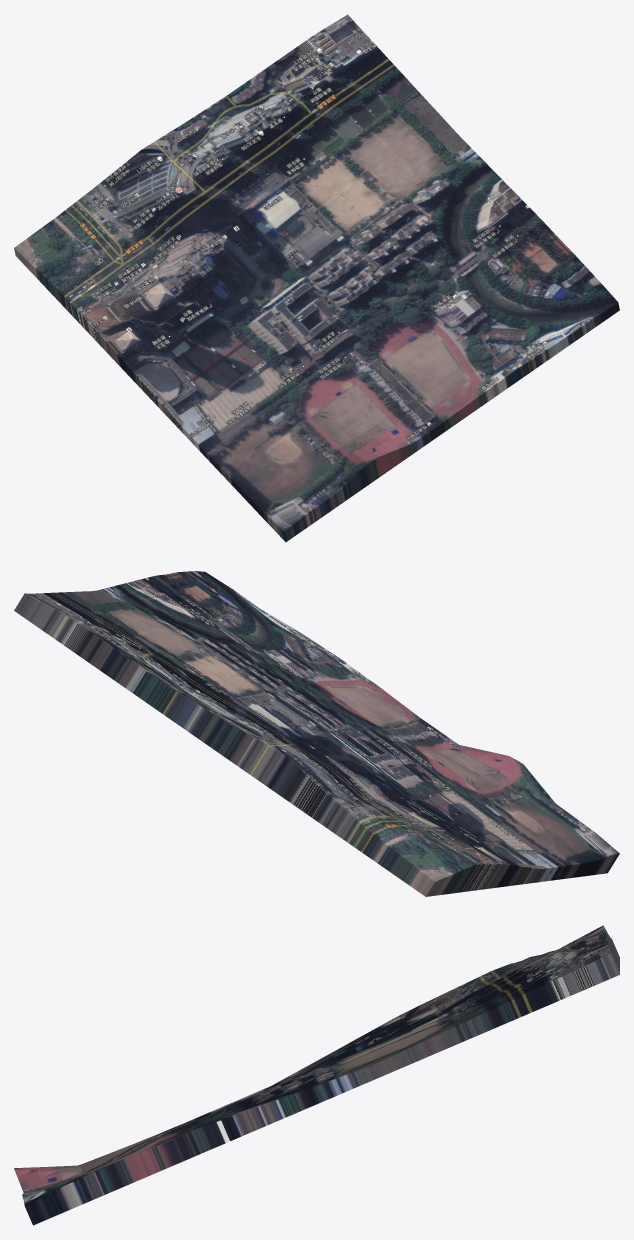
3 renders of one model, top to bottom at view 1: azimuth 30°, elevation 25°; view 2: azimuth 150°, elevation 25°; view 3: azimuth 270°, elevation 25°, orthographic. The views are drawn at different scales.
Parts seen in each view (by area): view 1: 0_6_21; view 2: 0_6_21; view 3: 0_6_21.
Boxes of the visible parts, box(x1,y1,x2,y2) form: 0_6_21: box(14, 14, 619, 542); 0_6_21: box(14, 571, 619, 896); 0_6_21: box(14, 925, 619, 1225).
Bounding box in the file's own units: 599 × 447 × 560.
Materials: 1 (1 with a texture image).
